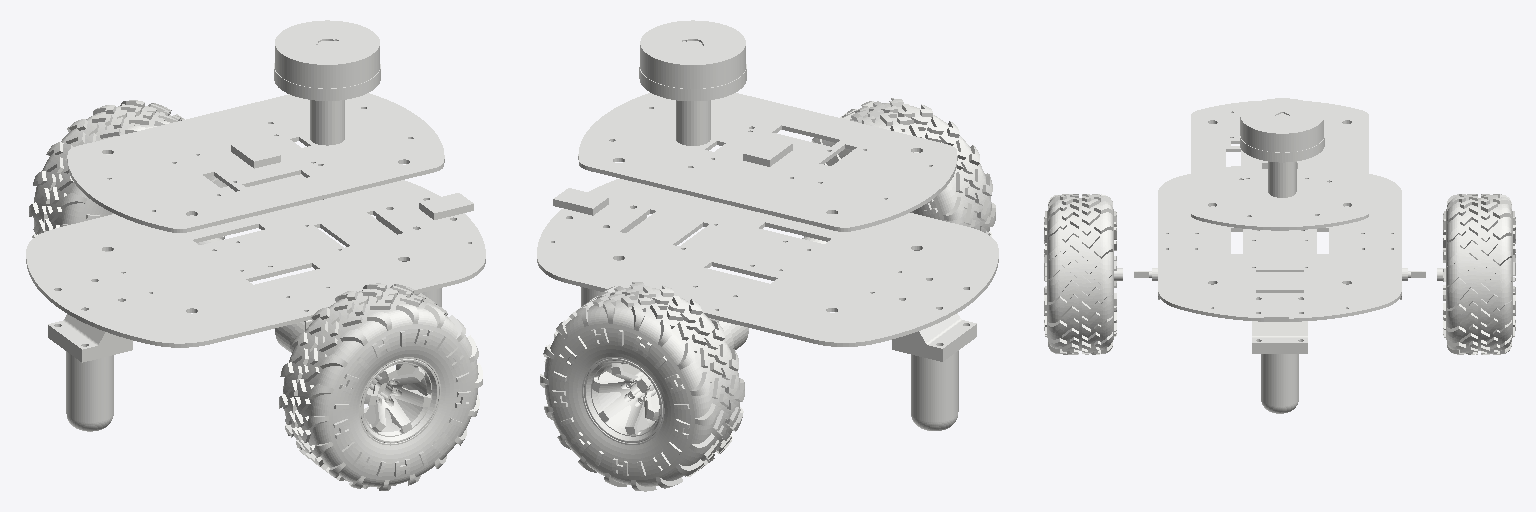
robot.urdf — rep:
<?xml version="1.0"?>
<robot name="rep">

  <!-- Materials -->
  <material name="Acier">
    <color rgba="0.965 0.965 0.953 1.0"/>
  </material>

  <link name="base_link">
    <inertial>
      <origin xyz="0.002457 0.000319 0.017256" rpy="0 0 0"/>
      <mass value="2.915698"/>
      <inertia ixx="1.497968e-02" ixy="-1.987847e-06" ixz="-6.198532e-04"
               iyy="1.704262e-02" iyz="-5.692531e-05" izz="2.223752e-02"/>
    </inertial>
    <visual>
      <origin xyz="0.000000 0.000000 0.000000" rpy="0 0 0"/>
      <geometry>
        <mesh filename="package://rep_description/meshes/rep/base_link.dae" scale="1 1 1"/>
      </geometry>
      <material name="Acier"/>
    </visual>
    <collision>
      <origin xyz="0.000000 0.000000 0.000000" rpy="0 0 0"/>
      <geometry>
        <mesh filename="package://rep_description/meshes/rep/base_link_collision.stl" scale="0.01 0.01 0.01"/>
      </geometry>
    </collision>
  </link>

  <link name="caster_wheel1">
    <inertial>
      <origin xyz="-0.002156 0.000000 -0.019873" rpy="0 0 0"/>
      <mass value="0.605039"/>
      <inertia ixx="4.333806e-04" ixy="0.000000e+00" ixz="4.094011e-05"
               iyy="4.187976e-04" iyz="8.924417e-20" izz="1.115116e-04"/>
    </inertial>
    <visual>
      <origin xyz="0.000000 0.000000 0.000000" rpy="0 0 0"/>
      <geometry>
        <mesh filename="package://rep_description/meshes/rep/caster_wheel1.dae" scale="1 1 1"/>
      </geometry>
      <material name="Acier"/>
    </visual>
    <collision>
      <origin xyz="0.000000 0.000000 0.000000" rpy="0 0 0"/>
      <geometry>
        <mesh filename="package://rep_description/meshes/rep/caster_wheel1_collision.stl" scale="0.01 0.01 0.01"/>
      </geometry>
    </collision>
  </link>

  <link name="caster_wheel2">
    <inertial>
      <origin xyz="0.002156 -0.000000 -0.007373" rpy="0 0 0"/>
      <mass value="0.605039"/>
      <inertia ixx="4.333806e-04" ixy="-1.504024e-12" ixz="-4.094010e-05"
               iyy="4.187976e-04" iyz="-1.272853e-11" izz="1.115116e-04"/>
    </inertial>
    <visual>
      <origin xyz="0.000000 0.000000 0.000000" rpy="0 0 0"/>
      <geometry>
        <mesh filename="package://rep_description/meshes/rep/caster_wheel2.dae" scale="1 1 1"/>
      </geometry>
      <material name="Acier"/>
    </visual>
    <collision>
      <origin xyz="0.000000 0.000000 0.000000" rpy="0 0 0"/>
      <geometry>
        <mesh filename="package://rep_description/meshes/rep/caster_wheel2_collision.stl" scale="0.01 0.01 0.01"/>
      </geometry>
    </collision>
  </link>

  <link name="lidar">
    <inertial>
      <origin xyz="0.000000 0.000000 0.005494" rpy="0 0 0"/>
      <mass value="0.756885"/>
      <inertia ixx="2.679588e-04" ixy="1.784883e-19" ixz="-2.872641e-16"
               iyy="2.679523e-04" iyz="-4.462208e-20" izz="4.518700e-04"/>
    </inertial>
    <visual>
      <origin xyz="0.000000 0.000000 0.000000" rpy="0 0 0"/>
      <geometry>
        <mesh filename="package://rep_description/meshes/rep/lidar.dae" scale="1 1 1"/>
      </geometry>
      <material name="Acier"/>
    </visual>
    <collision>
      <origin xyz="0.000000 0.000000 0.000000" rpy="0 0 0"/>
      <geometry>
        <mesh filename="package://rep_description/meshes/rep/lidar_collision.stl" scale="0.01 0.01 0.01"/>
      </geometry>
    </collision>
  </link>

  <link name="imu">
    <inertial>
      <origin xyz="0.000000 0.000000 0.000000" rpy="0 0 0"/>
      <mass value="0.023550"/>
      <inertia ixx="1.815312e-06" ixy="0.000000e+00" ixz="0.000000e+00"
               iyy="1.000000e-06" iyz="0.000000e+00" izz="2.551250e-06"/>
    </inertial>
    <visual>
      <origin xyz="0.000000 0.000000 0.000000" rpy="0 0 0"/>
      <geometry>
        <mesh filename="package://rep_description/meshes/rep/imu.dae" scale="1 1 1"/>
      </geometry>
      <material name="Acier"/>
    </visual>
    <collision>
      <origin xyz="0.000000 0.000000 0.000000" rpy="0 0 0"/>
      <geometry>
        <mesh filename="package://rep_description/meshes/rep/imu_collision.stl" scale="0.01 0.01 0.01"/>
      </geometry>
    </collision>
  </link>

  <link name="mag">
    <inertial>
      <origin xyz="0.000000 0.000000 0.000000" rpy="0 0 0"/>
      <mass value="0.023550"/>
      <inertia ixx="1.000000e-06" ixy="0.000000e+00" ixz="0.000000e+00"
               iyy="1.815312e-06" iyz="0.000000e+00" izz="2.551250e-06"/>
    </inertial>
    <visual>
      <origin xyz="0.000000 0.000000 0.000000" rpy="0 0 0"/>
      <geometry>
        <mesh filename="package://rep_description/meshes/rep/mag.dae" scale="1 1 1"/>
      </geometry>
      <material name="Acier"/>
    </visual>
    <collision>
      <origin xyz="0.000000 0.000000 0.000000" rpy="0 0 0"/>
      <geometry>
        <mesh filename="package://rep_description/meshes/rep/mag_collision.stl" scale="0.01 0.01 0.01"/>
      </geometry>
    </collision>
  </link>

  <link name="left_wheel">
    <inertial>
      <origin xyz="0.000005 0.022147 0.000002" rpy="0 0 0"/>
      <mass value="1.021548"/>
      <inertia ixx="1.666424e-03" ixy="1.189099e-08" ixz="4.089806e-08"
               iyy="2.596221e-03" iyz="-7.180651e-08" izz="1.666591e-03"/>
    </inertial>
    <visual>
      <origin xyz="-0.000411 0.019078 -0.001942" rpy="0 0 0"/>
      <geometry>
        <mesh filename="package://rep_description/meshes/rep/left_wheel.dae" scale="1 1 1"/>
      </geometry>
      <material name="Acier"/>
    </visual>
    <collision>
      <origin xyz="-0.000411 0.019078 -0.001942" rpy="0 0 0"/>
      <geometry>
        <mesh filename="package://rep_description/meshes/rep/left_wheel_collision.stl" scale="0.01 0.01 0.01"/>
      </geometry>
    </collision>
  </link>

  <link name="right_wheel">
    <inertial>
      <origin xyz="-0.000005 -0.022147 0.000002" rpy="0 0 0"/>
      <mass value="1.021548"/>
      <inertia ixx="1.666424e-03" ixy="1.189099e-08" ixz="-4.089806e-08"
               iyy="2.596221e-03" iyz="7.180651e-08" izz="1.666591e-03"/>
    </inertial>
    <visual>
      <origin xyz="0.000411 -0.019078 -0.001942" rpy="0 0 0"/>
      <geometry>
        <mesh filename="package://rep_description/meshes/rep/right_wheel.dae" scale="1 1 1"/>
      </geometry>
      <material name="Acier"/>
    </visual>
    <collision>
      <origin xyz="0.000411 -0.019078 -0.001942" rpy="0 0 0"/>
      <geometry>
        <mesh filename="package://rep_description/meshes/rep/right_wheel_collision.stl" scale="0.01 0.01 0.01"/>
      </geometry>
    </collision>
  </link>

  <joint name="caster_wheel1_joint" type="fixed">
    <parent link="base_link"/>
    <child link="caster_wheel1"/>
    <origin xyz="0.122500 0.000000 -0.023000" rpy="-0.000000 0.000000 -0.000000"/>
  </joint>

  <joint name="caster_wheel2_joint" type="fixed">
    <parent link="base_link"/>
    <child link="caster_wheel2"/>
    <origin xyz="-0.125000 0.000000 -0.035500" rpy="0.000000 -0.000000 -0.000000"/>
  </joint>

  <joint name="lidar_joint" type="fixed">
    <parent link="base_link"/>
    <child link="lidar"/>
    <origin xyz="0.055000 0.002000 0.123200" rpy="0.000000 -0.000000 -0.000000"/>
  </joint>

  <link name="imu_link"/>

  <joint name="imu_link_joint" type="fixed">
    <parent link="imu"/>
    <child link="imu_link"/>
    <origin xyz="0 0 0" rpy="0 0 0"/>
  </joint>

  <joint name="imu_joint" type="fixed">
    <parent link="base_link"/>
    <child link="imu"/>
    <origin xyz="-0.000000 -0.000000 0.075500" rpy="-0.000000 0.000000 0.000000"/>
  </joint>

  <joint name="mag_joint" type="fixed">
    <parent link="base_link"/>
    <child link="mag"/>
    <origin xyz="0.142000 -0.003000 0.005500" rpy="0.000000 -0.000000 -0.000000"/>
  </joint>

  <joint name="left_wheel_joint" type="continuous">
    <parent link="base_link"/>
    <child link="left_wheel"/>
    <origin xyz="-0.000000 0.141000 -0.027000" rpy="0.000000 -0.000000 -0.000000"/>
    <axis xyz="-0.000000 1.000000 -0.000000"/>
    <limit effort="100.0" velocity="1.00"/>
  </joint>

  <joint name="right_wheel_joint" type="continuous">
    <parent link="base_link"/>
    <child link="right_wheel"/>
    <origin xyz="-0.000000 -0.141000 -0.027000" rpy="-0.000000 -0.000000 -0.000000"/>
    <axis xyz="0.000000 -1.000000 -0.000000"/>
    <limit effort="100.0" velocity="1.00"/>
  </joint>

  <!-- ROS 2 control: generated generic system -->
  <ros2_control name="rep_system" type="system">
    <hardware>
      <plugin>mock_components/GenericSystem</plugin>
      <param name="cmd_topic">sim/rep_system/cmd</param>
      <param name="state_topic">sim/rep_system/state</param>
    </hardware>

    <joint name="left_wheel_joint">
      <command_interface name="position"/>
      <command_interface name="velocity"/>
      <state_interface name="position">
        <param name="initial_value">0.0</param>
      </state_interface>
      <state_interface name="velocity"/>
      <state_interface name="effort"/>
    </joint>
    <joint name="right_wheel_joint">
      <command_interface name="position"/>
      <command_interface name="velocity"/>
      <state_interface name="position">
        <param name="initial_value">0.0</param>
      </state_interface>
      <state_interface name="velocity"/>
      <state_interface name="effort"/>
    </joint>
  </ros2_control>

</robot>

--- Facts derived from the render (not from the file) ---
3 views of the same robot in one strip: view 1: azimuth 30°, elevation 25°; view 2: azimuth 150°, elevation 25°; view 3: azimuth 270°, elevation 25° (orthographic).
Robot: rep — 9 links, 8 joints (2 continuous, 6 fixed); root link base_link; default pose: every joint at zero.
Visible links, largest first — view 1: base_link, right_wheel, lidar, left_wheel, caster_wheel2, mag, imu; view 2: base_link, left_wheel, lidar, right_wheel, caster_wheel2, mag, imu; view 3: base_link, left_wheel, right_wheel, lidar, caster_wheel1, mag.
Link boxes in pixels (x1,y1,x2,y2): base_link: (26, 93, 485, 352); right_wheel: (279, 283, 482, 490); lidar: (274, 20, 380, 100); left_wheel: (29, 100, 226, 251); caster_wheel2: (48, 314, 132, 431); mag: (419, 193, 473, 219); imu: (231, 139, 280, 168); base_link: (537, 93, 998, 349); left_wheel: (540, 282, 744, 491); lidar: (639, 20, 746, 100); right_wheel: (811, 98, 995, 250); caster_wheel2: (892, 313, 976, 430); mag: (553, 188, 608, 215); imu: (743, 137, 792, 166); base_link: (1134, 101, 1425, 321); left_wheel: (1437, 194, 1515, 354); right_wheel: (1044, 194, 1122, 354); lidar: (1240, 98, 1324, 162); caster_wheel1: (1252, 321, 1307, 413); mag: (1264, 301, 1288, 321).
Bounding box of the posed robot: 0.307 × 0.3852 × 0.2342 m (x, y, z).
8 mesh visuals loaded from 8 distinct referenced files (8 Collada DAE).
